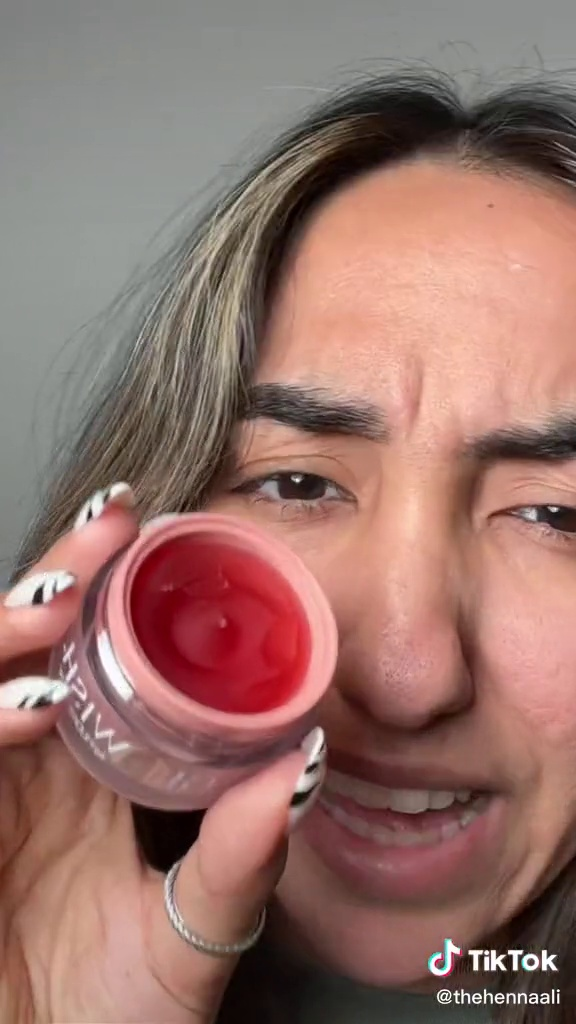train' :'yolo_data/train/images',: (40, 498, 347, 817)
